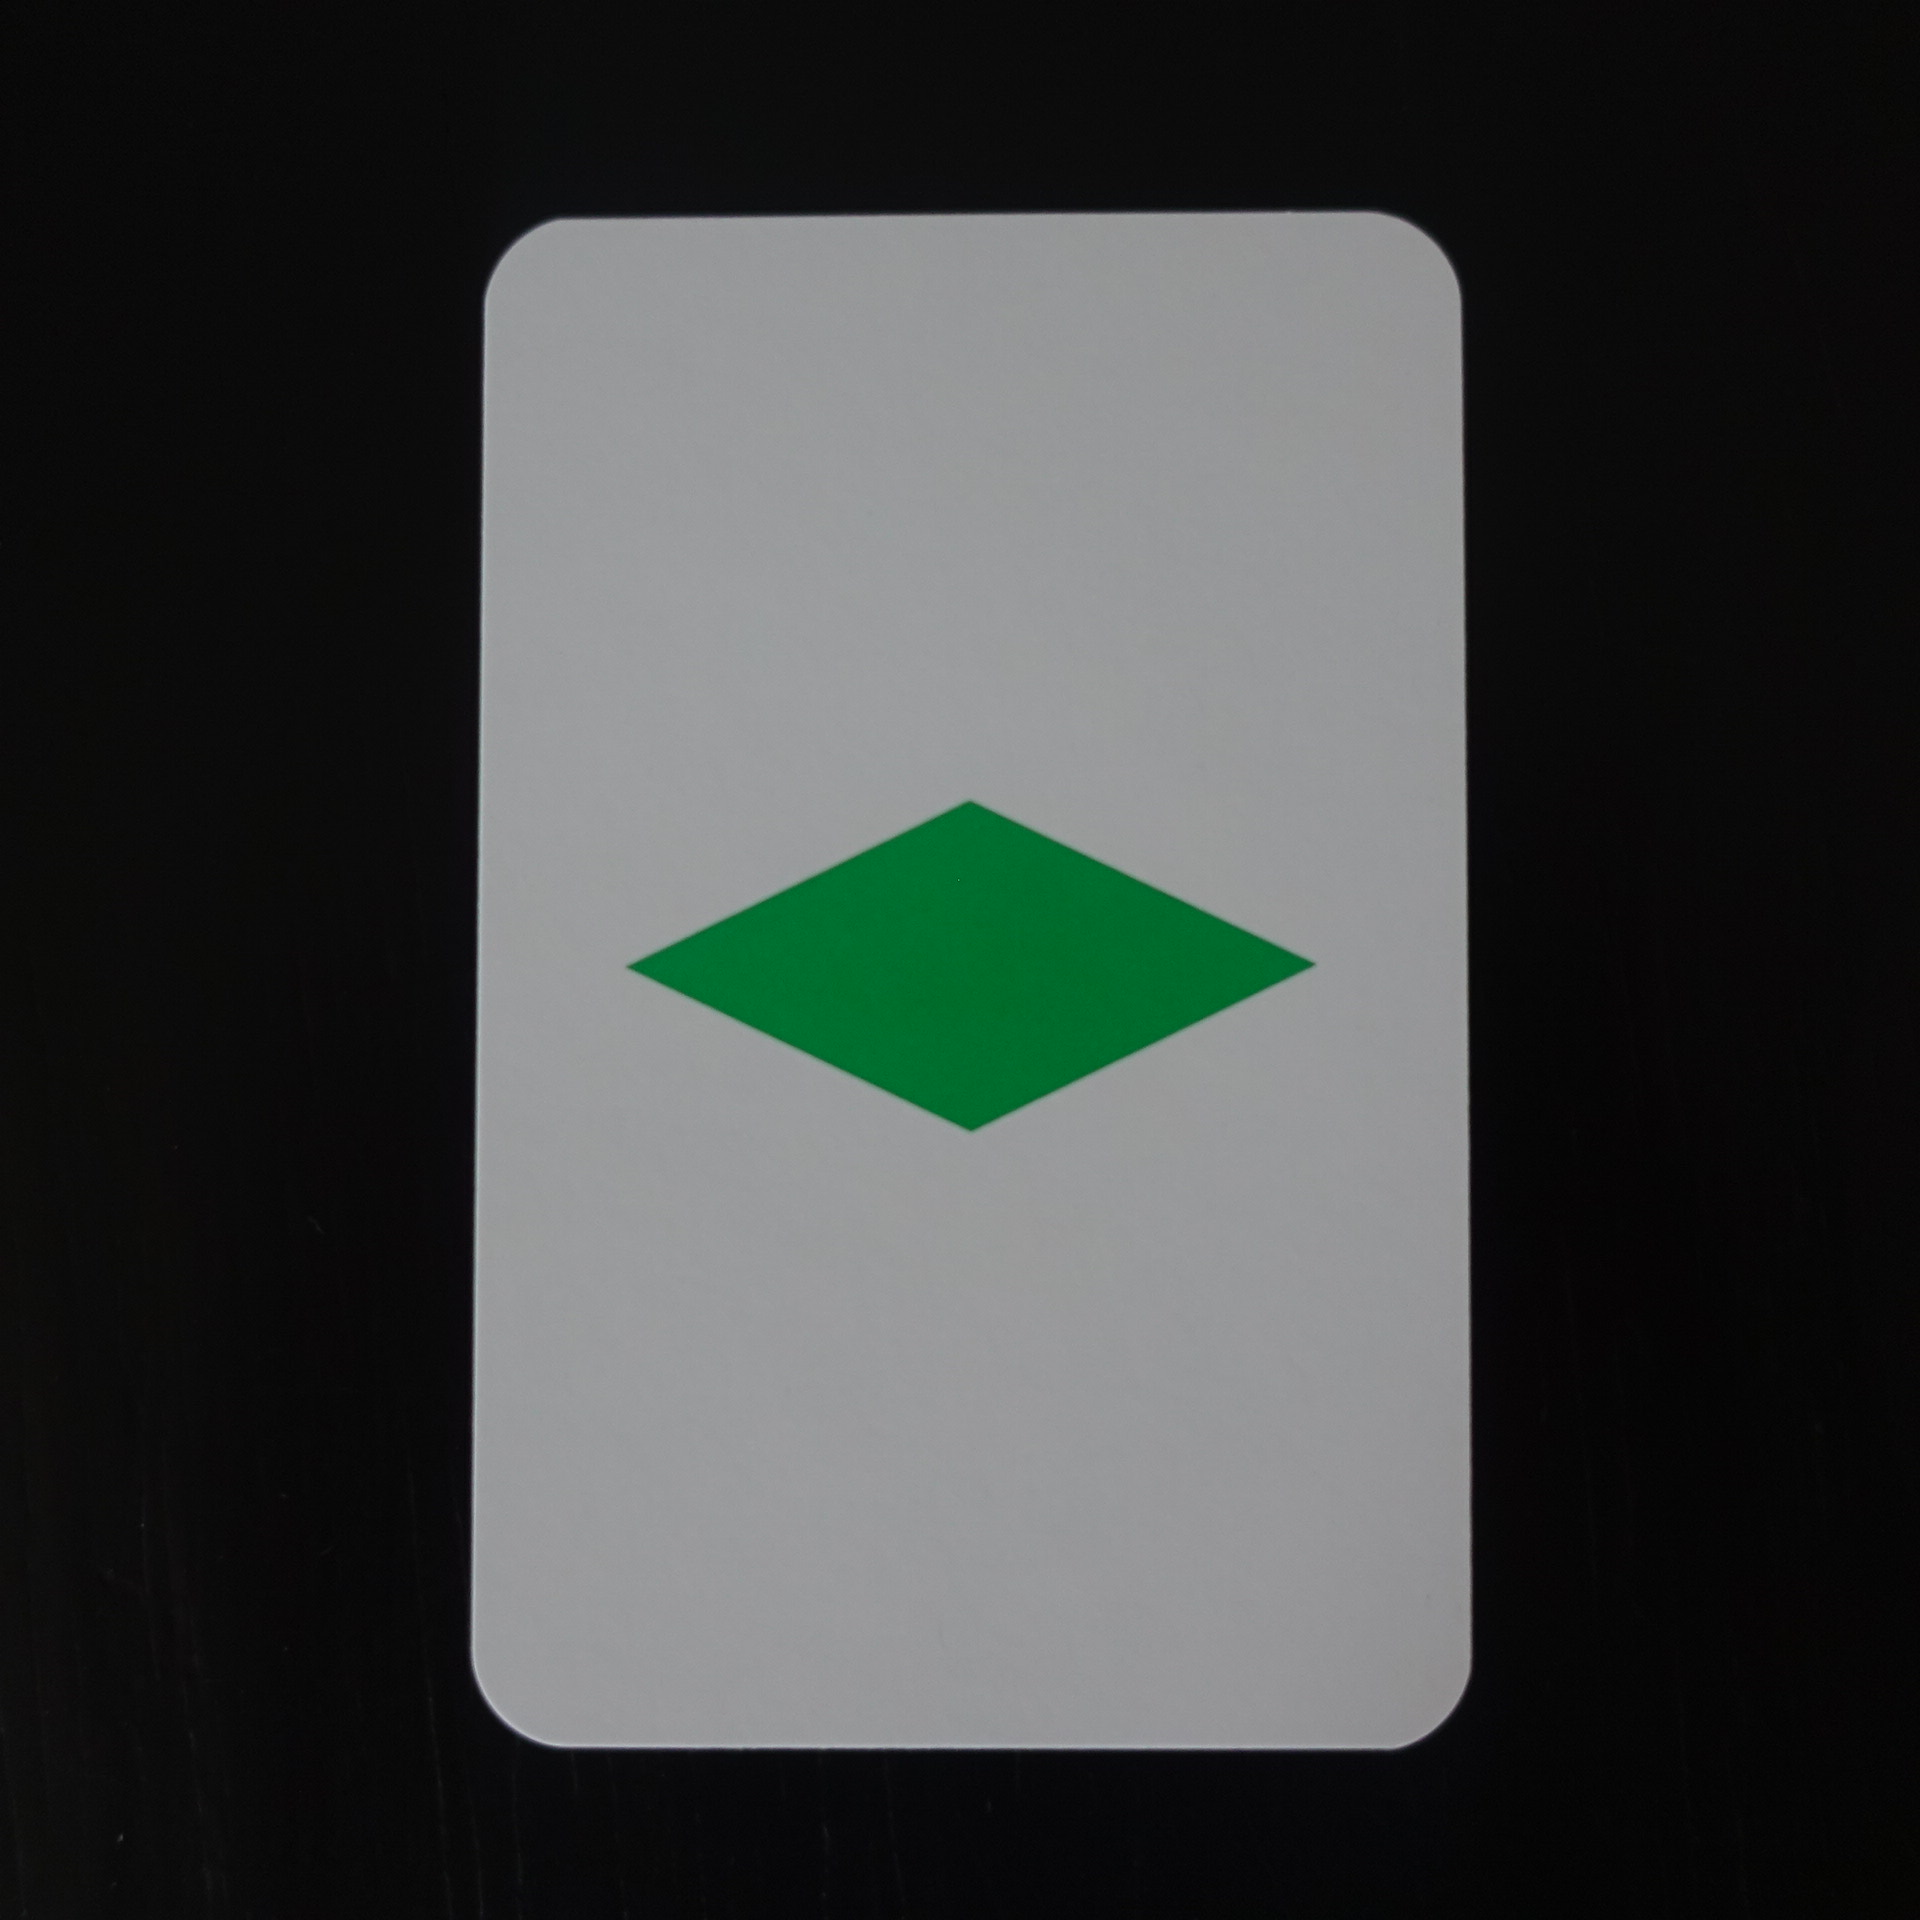c-2-f-d-r: (434, 183, 1503, 1774)
